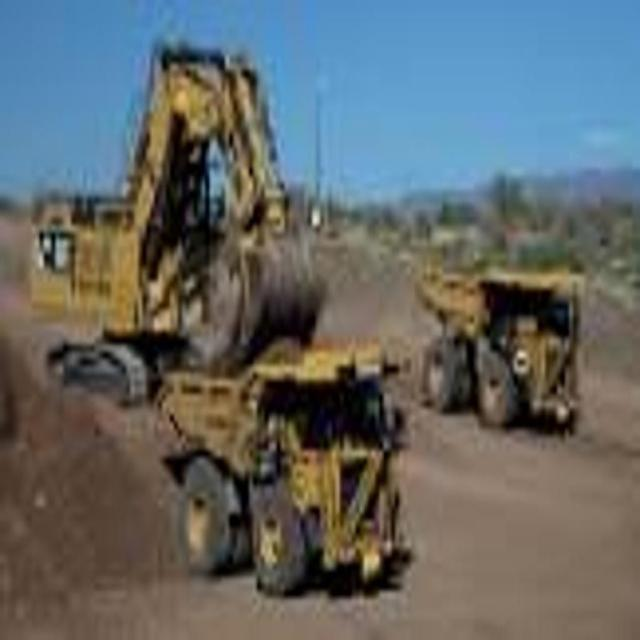dump_truck: (154, 338, 401, 610), (412, 252, 588, 437)
